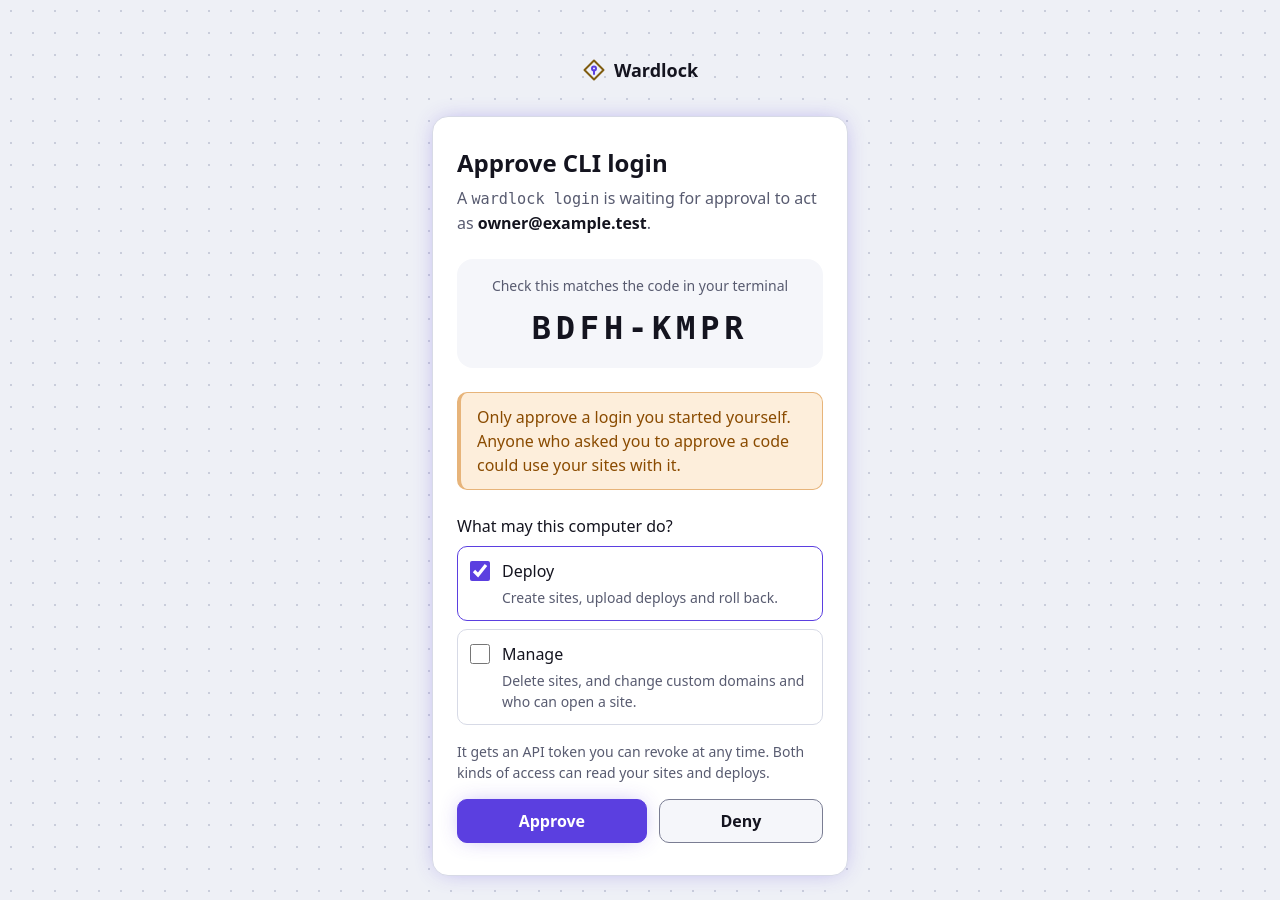
Test: /cli-login › denies a login
Click the button "Deny".
click(741, 821)  # box [659,799,823,843]
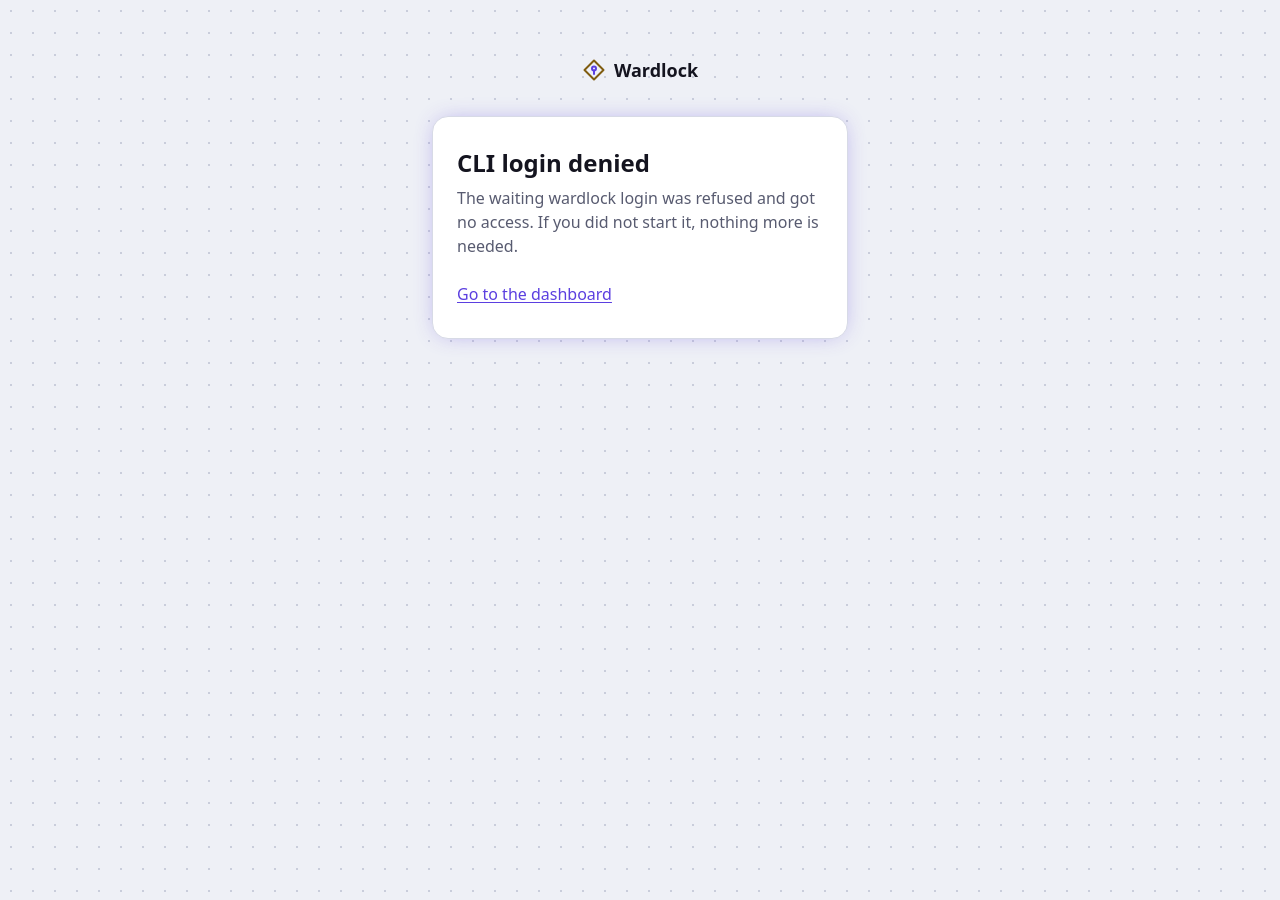
Expected: the heading "CLI login denied" is shown, [457,146,650,179]
